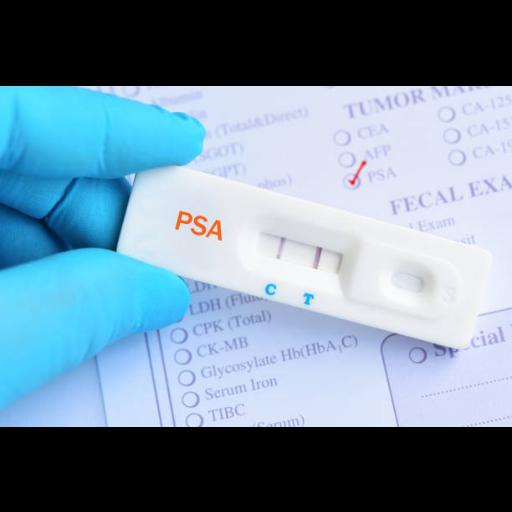Pos: (117, 155, 494, 351)
